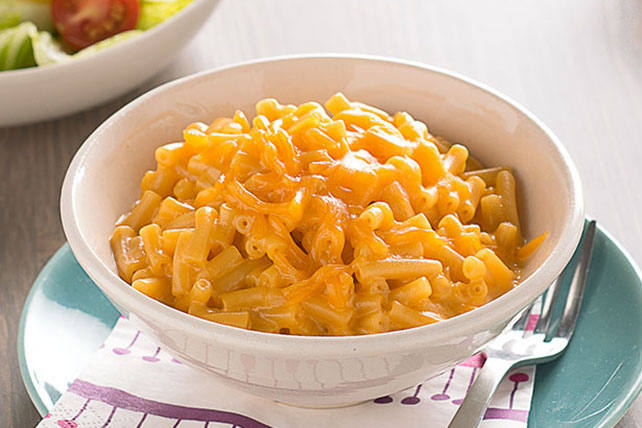macncheese: (126, 76, 547, 400)
